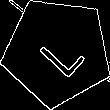L_NW: (29, 23, 86, 80)
